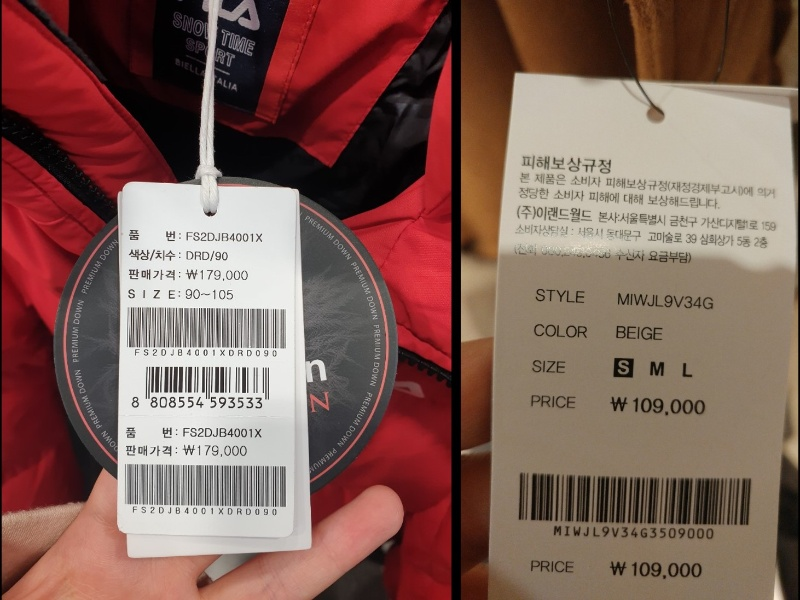tag: (492, 70, 789, 600), (120, 180, 293, 535)
text: (512, 199, 780, 247), (512, 169, 779, 210), (552, 522, 719, 544), (605, 393, 707, 420), (130, 503, 279, 521), (613, 289, 719, 314), (518, 152, 616, 178), (607, 556, 706, 581), (130, 346, 284, 359), (531, 319, 590, 344), (529, 285, 590, 308), (178, 425, 265, 440), (527, 390, 578, 413), (182, 229, 263, 243), (524, 556, 577, 576), (180, 443, 249, 458), (124, 423, 180, 441), (129, 245, 182, 264), (529, 354, 569, 379), (127, 226, 182, 244), (128, 265, 182, 283), (127, 286, 184, 303), (184, 268, 250, 282), (124, 442, 179, 458), (612, 325, 663, 342), (149, 395, 205, 410), (184, 285, 235, 301), (206, 395, 264, 409), (184, 246, 231, 263)
